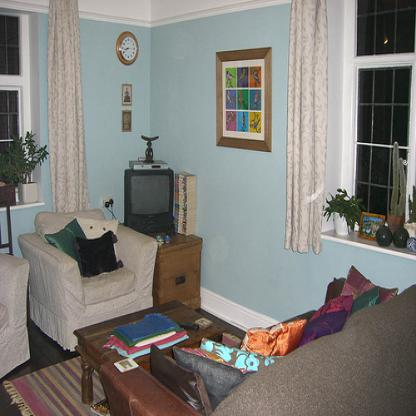chair: (18, 207, 160, 360), (0, 253, 31, 383)
pottedplant: (1, 130, 49, 204), (321, 187, 365, 236), (386, 140, 408, 234), (404, 185, 416, 240)
sofa: (98, 285, 416, 415)
tvmonitor: (123, 169, 175, 233)
